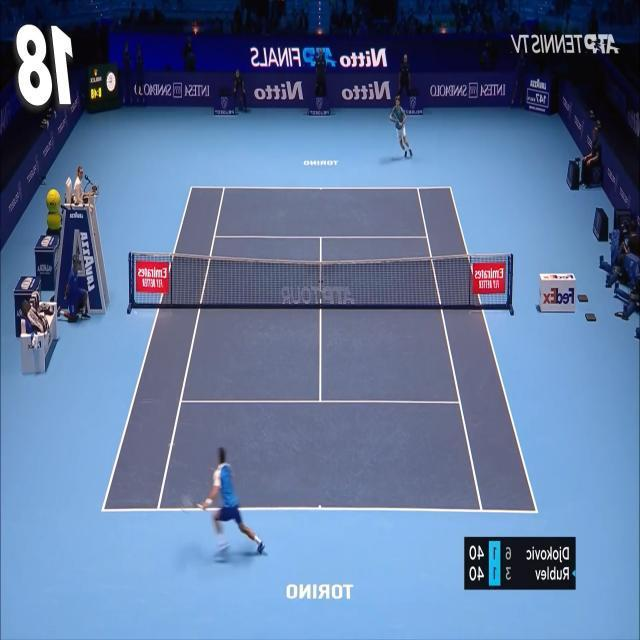court: (100, 186, 539, 513)
net: (128, 251, 514, 309)
player: (179, 446, 265, 560)
